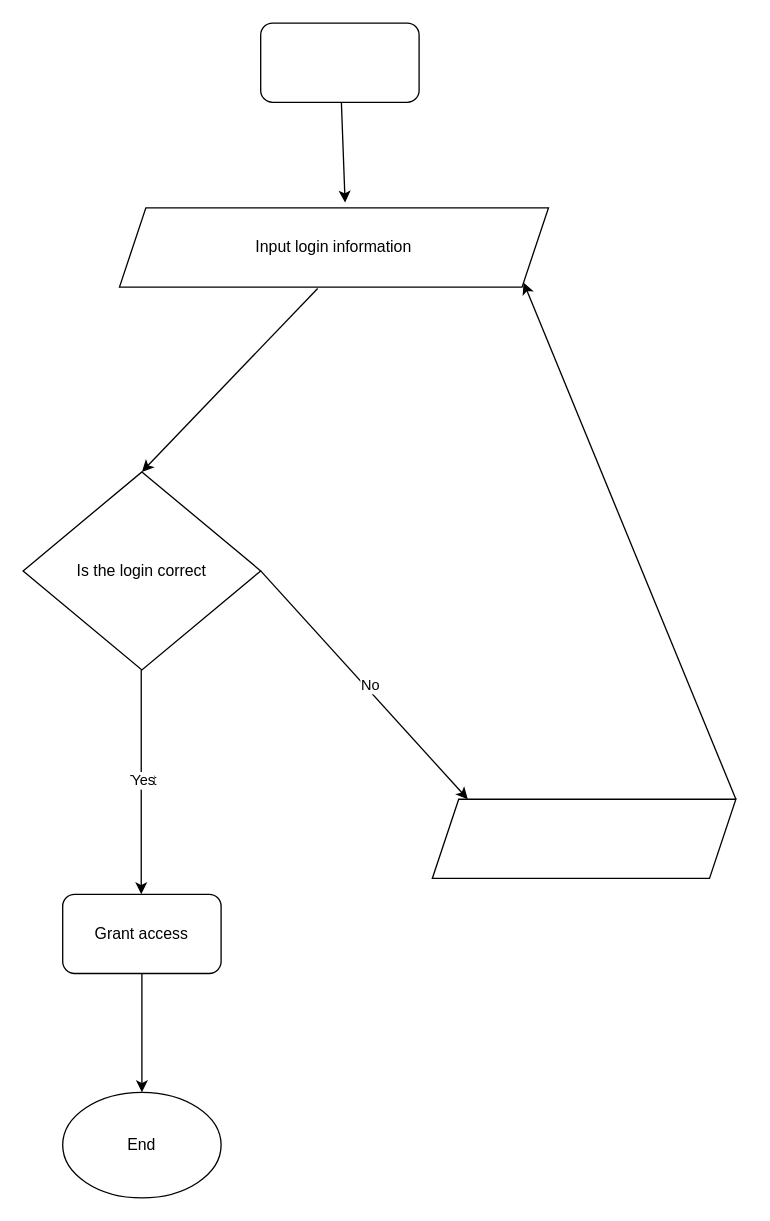
Image size: 770x1221. Some labels were removed from this diagram. The centre of each missing label's shape, as x and y in pixels:
"Output login error" goes at point (583, 838).
"Start" goes at point (339, 62).
